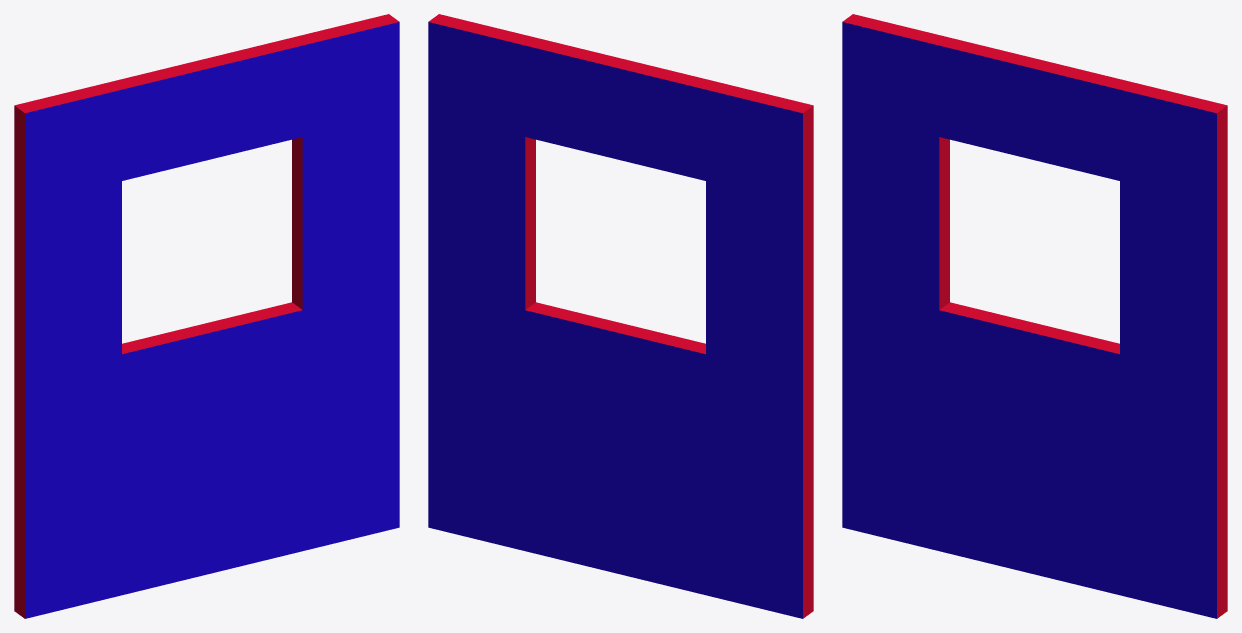
Rendered from wallWindow3.fbx.
3 views of the same model, side by side, from view 1: azimuth 30°, elevation 25°; view 2: azimuth 150°, elevation 25°; view 3: azimuth 330°, elevation 25° (orthographic).
Visible parts, largest first — view 1: wallWindow3; view 2: wallWindow3; view 3: wallWindow3.
Boxes of the visible parts, x1,y1,x2,y2 form: wallWindow3: (14,14,399,618); wallWindow3: (428,14,813,618); wallWindow3: (842,14,1227,618).
Bounding box in the file's own units: 1000 × 1290 × 50.
